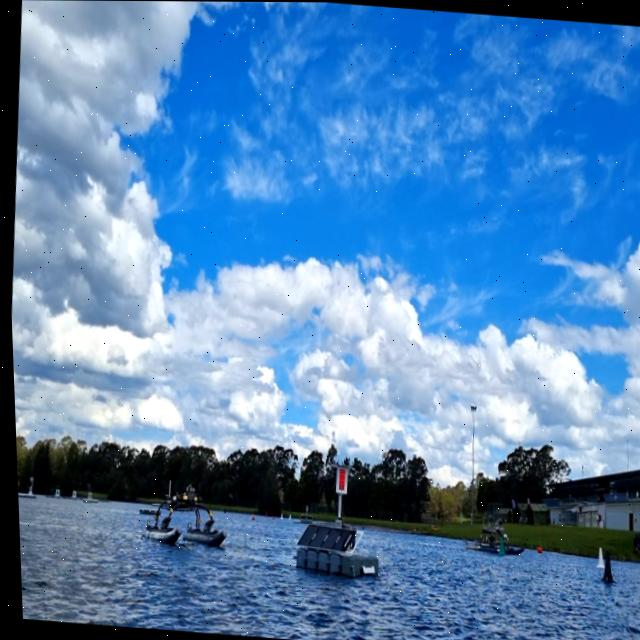led: (332, 466, 343, 490)
